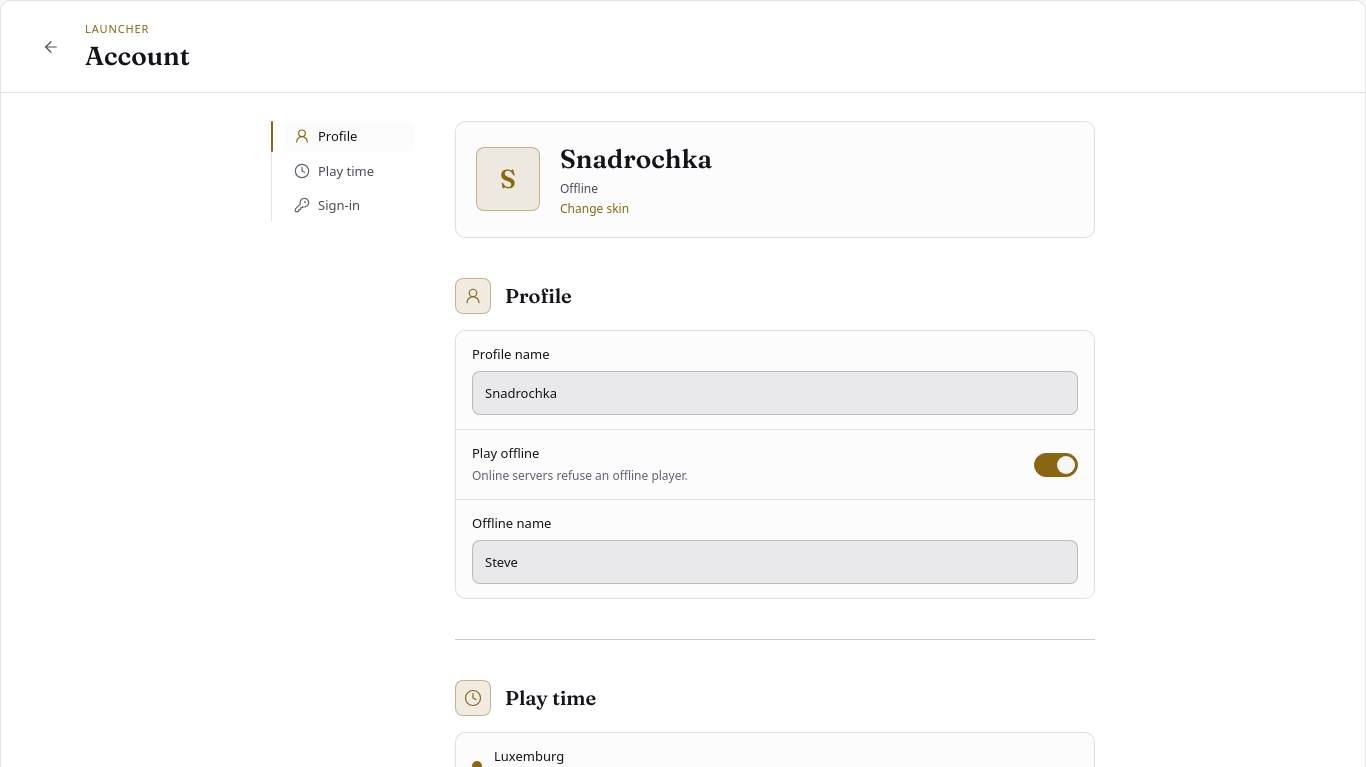
Test: AccountPanel › saves an offline name on Enter and turns offline off again
Replace the text in the field labelled "Offline name" with " Alex_01 " at (775, 562), box [472, 540, 1078, 584]
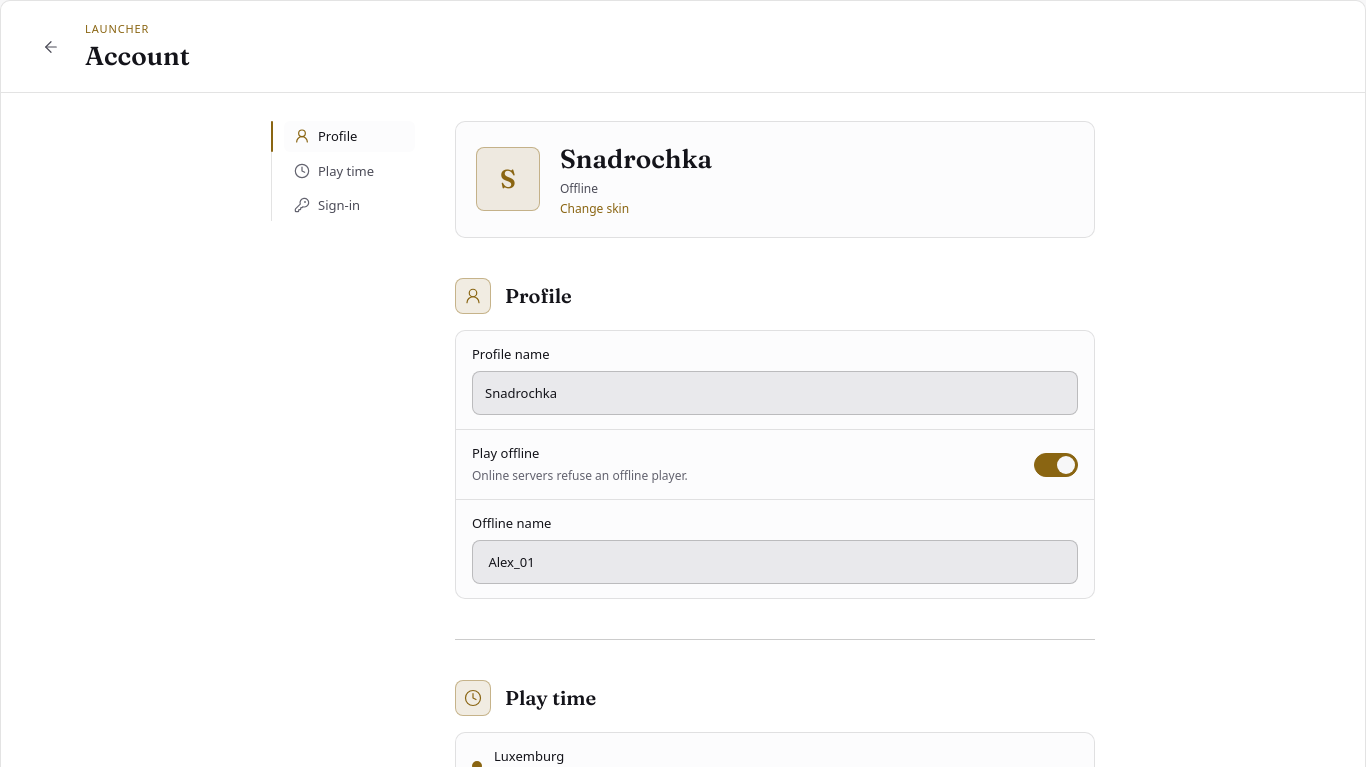
Press Enter in the field labelled "Offline name", box [472, 540, 1078, 584]
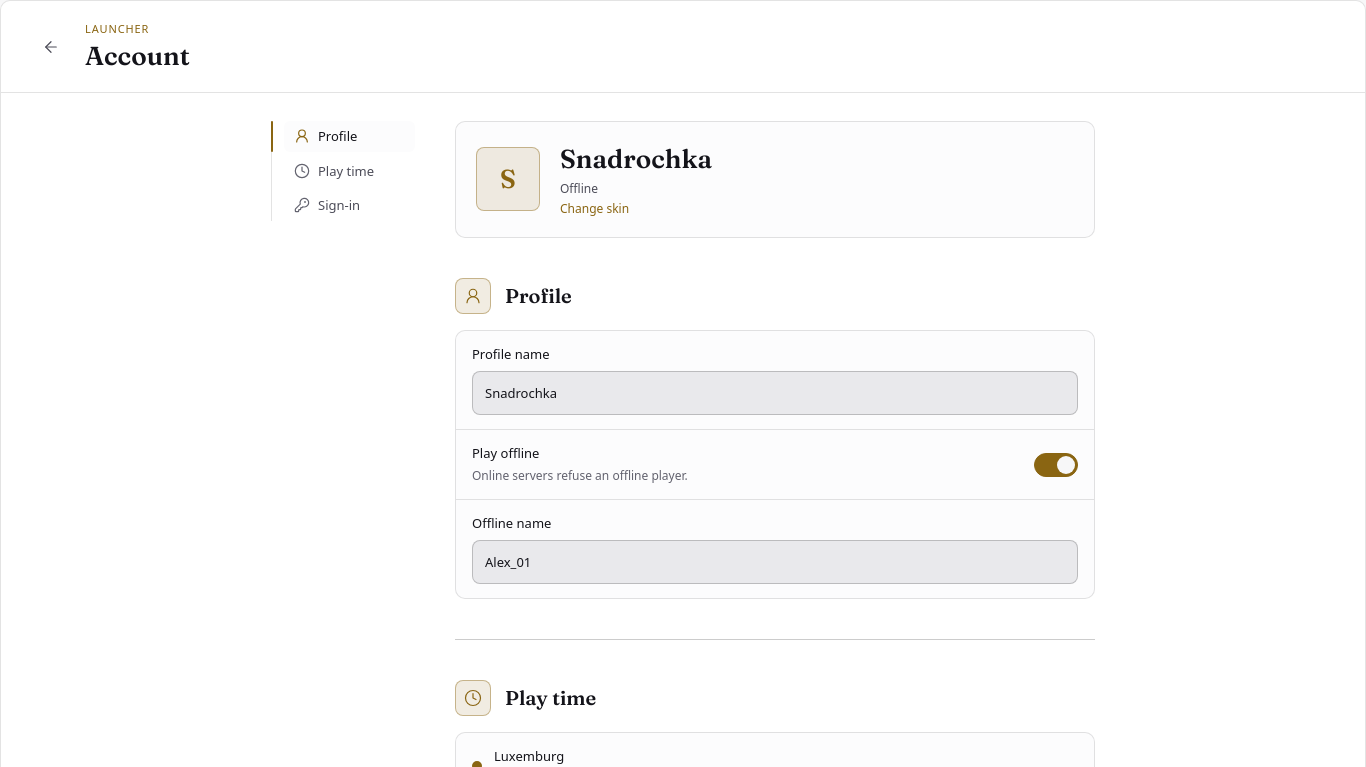
Click the switch named "Play offline".
click(1056, 464)  # box [1034, 452, 1078, 476]
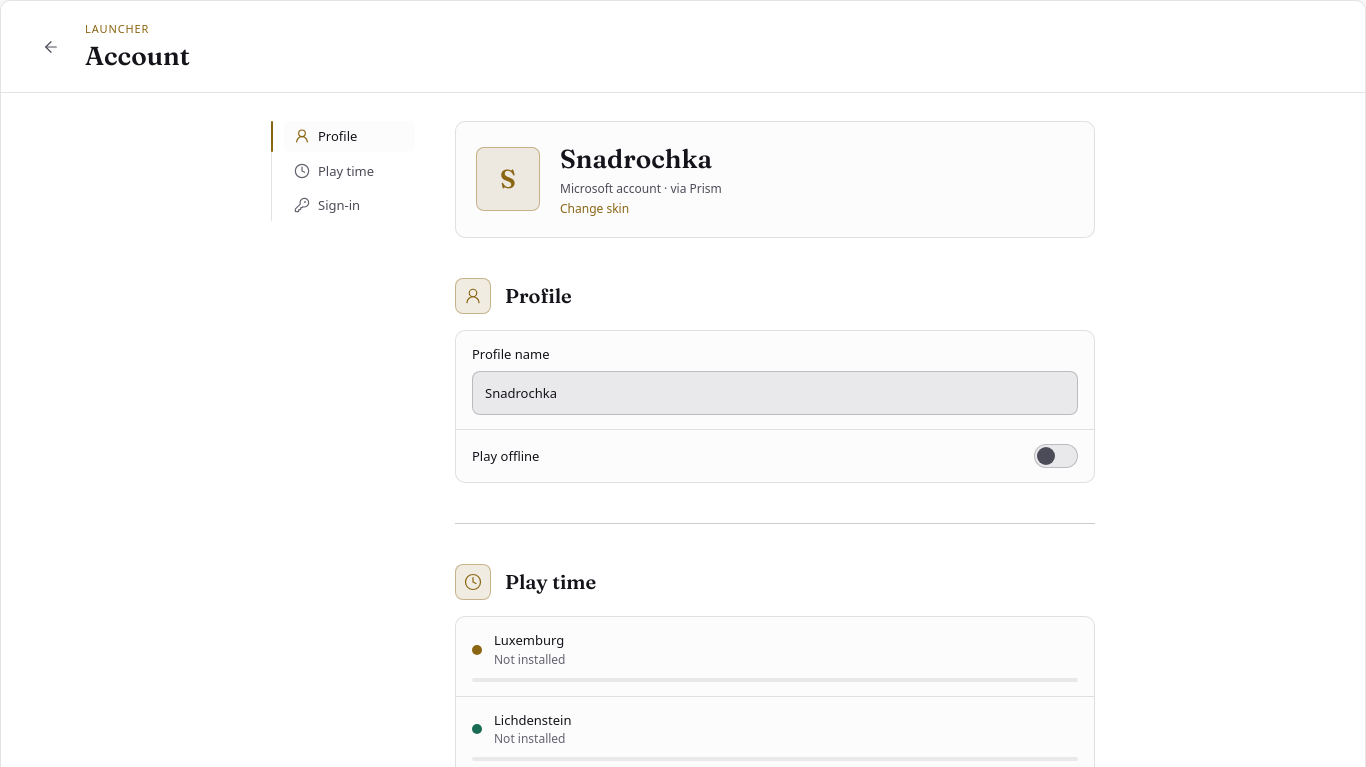
Check: the label labelled "Offline name" is gone
